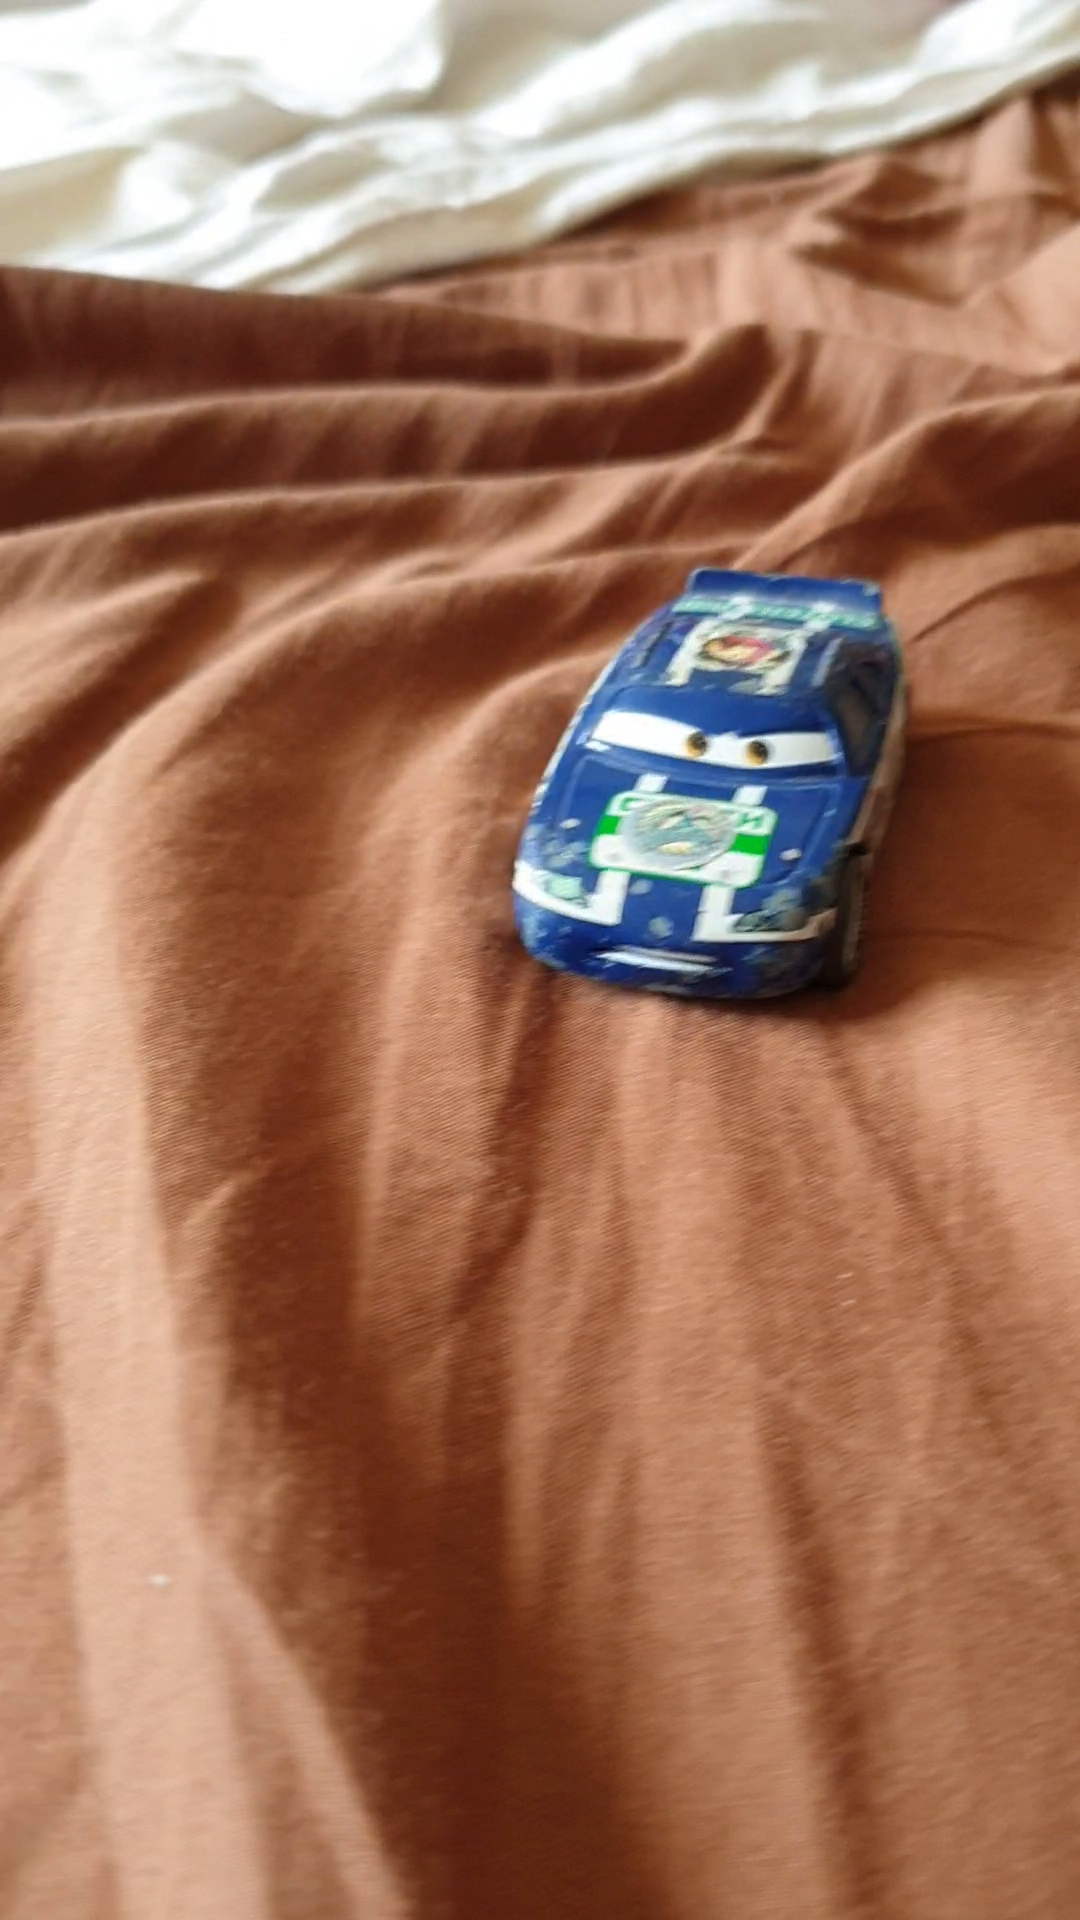cars: (514, 568, 920, 997)
